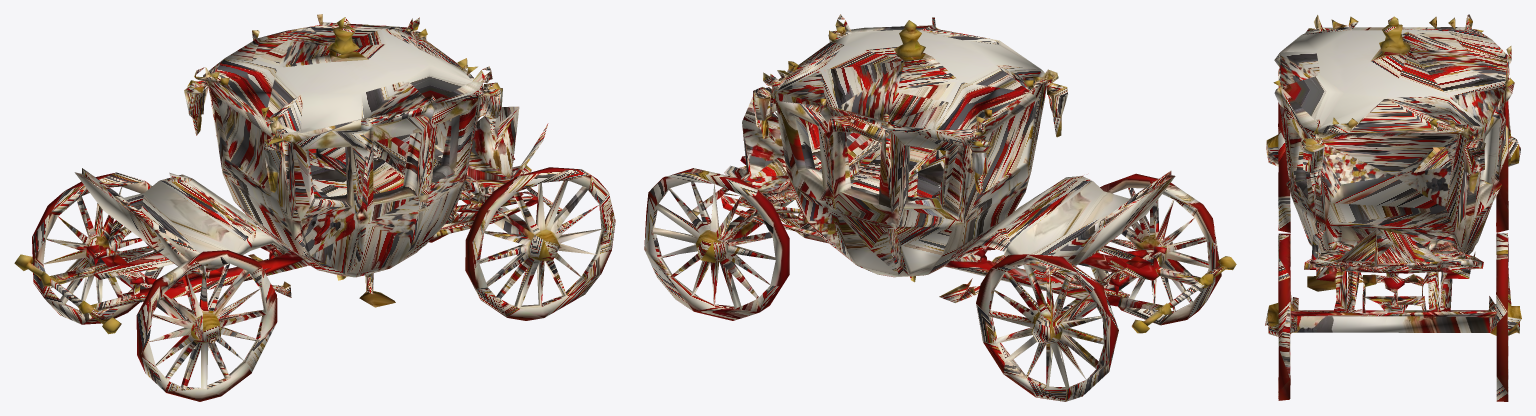
File: Royal_Carriage.glb
3 renders of one model, left to right at view 1: azimuth 30°, elevation 25°; view 2: azimuth 150°, elevation 25°; view 3: azimuth 270°, elevation 25°, orthographic. The views are drawn at different scales.
Parts seen in each view (by area): view 1: Royal_Carriage; view 2: Royal_Carriage; view 3: Royal_Carriage.
Boxes of the visible parts, x1,y1,x2,y2 form: Royal_Carriage: (14, 14, 615, 401); Royal_Carriage: (644, 14, 1236, 401); Royal_Carriage: (1265, 14, 1521, 401).
Size of the model in its own units: 1.91 by 1.07 by 0.8165.
Materials: 1 (1 with a texture image).
